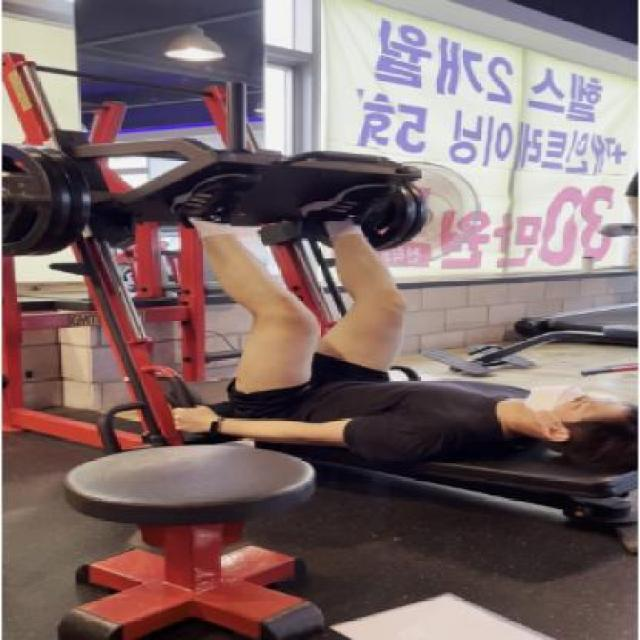leg press: (0, 44, 640, 542)
